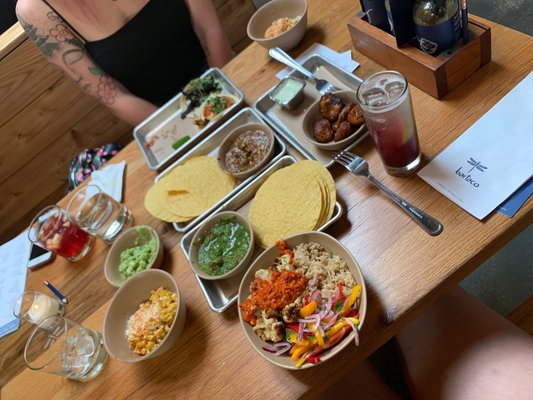pizza: (356, 69, 423, 175), (23, 314, 108, 382), (62, 187, 124, 241)
salad: (178, 153, 293, 235), (270, 47, 324, 85)
sandwich: (332, 149, 444, 237)
sushi: (234, 231, 368, 373), (102, 268, 185, 364), (181, 210, 255, 282), (301, 92, 369, 153), (104, 224, 161, 288), (218, 123, 277, 179), (247, 0, 309, 51)
